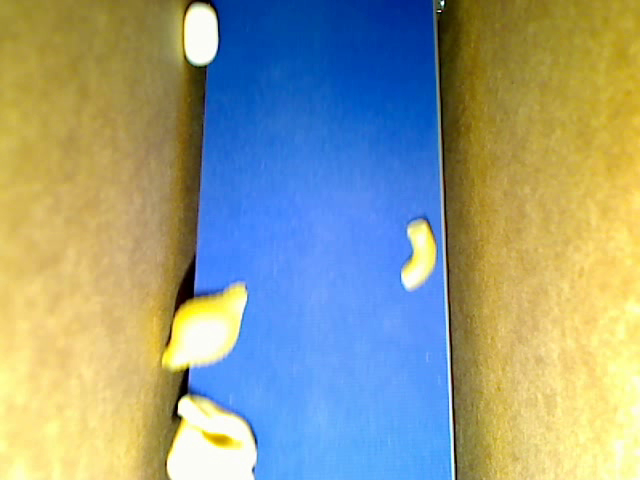elbow: (399, 216, 438, 292)
shell: (160, 280, 247, 372)
